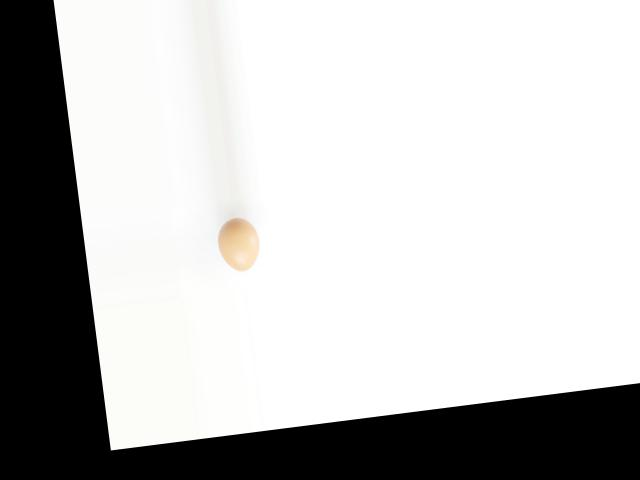egg: (214, 214, 261, 274)
